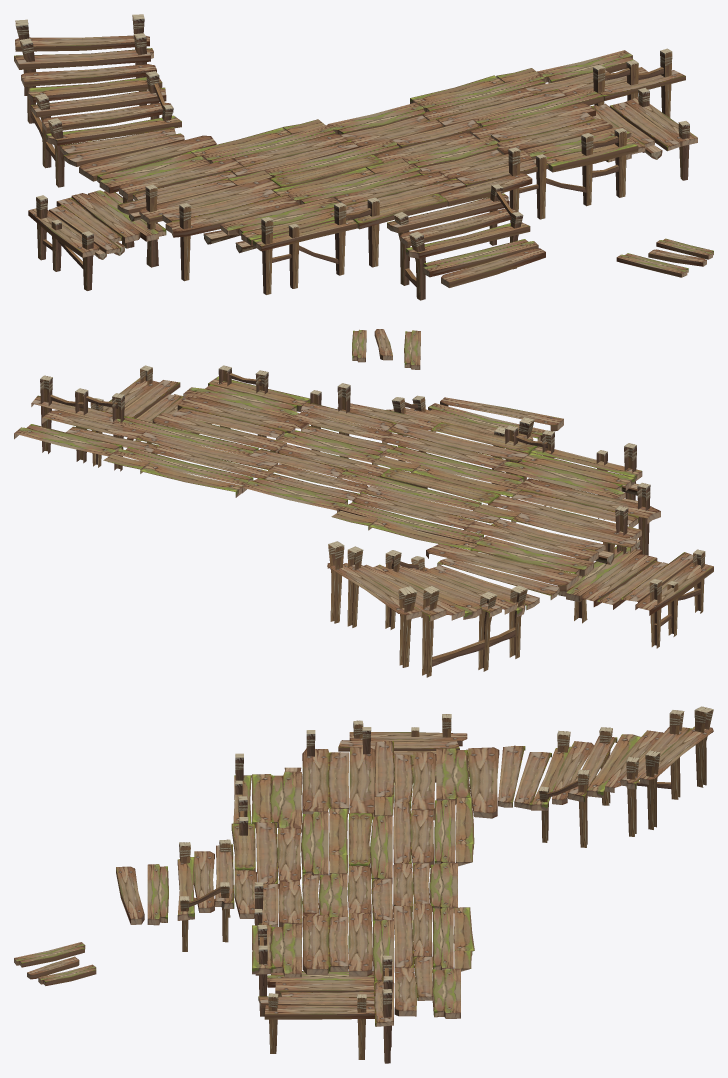
The model's file is Map_05_bridge06.FBX.
3 views of the same model, one above another, from view 1: azimuth 30°, elevation 25°; view 2: azimuth 150°, elevation 25°; view 3: azimuth 270°, elevation 25° (orthographic). The views are drawn at different scales.
Parts seen in each view (by area): view 1: Map_05_bridge06; view 2: Map_05_bridge06; view 3: Map_05_bridge06.
Part boxes in pixels (bbox=[...]): Map_05_bridge06: bbox=[14, 14, 713, 300]; Map_05_bridge06: bbox=[14, 329, 713, 677]; Map_05_bridge06: bbox=[14, 706, 713, 1063].
Size of the model in its own units: 2221 by 2128 by 447.
